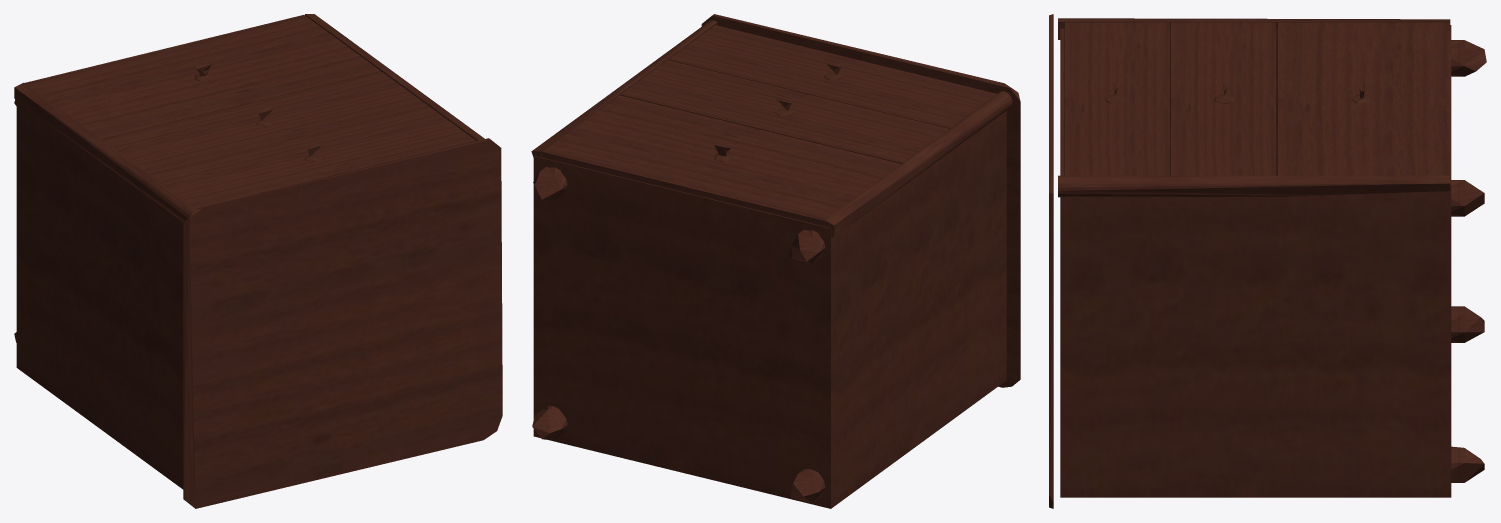
The model's file is commodenightstand1_wtf.obj.
The picture shows the model from 3 angles, left to right: view 1: azimuth 30°, elevation 25°; view 2: azimuth 150°, elevation 25°; view 3: azimuth 270°, elevation 25°; orthographic projection. The views are drawn at different scales.
Visible parts, largest first — view 1: group2, group3; view 2: group2, group3; view 3: group2, group3.
Part boxes in pixels (x1,y1,x2,y2): group2: (14, 14, 502, 508); group3: (195, 64, 323, 161); group2: (531, 14, 1020, 508); group3: (714, 63, 842, 161); group2: (1049, 14, 1486, 508); group3: (1105, 82, 1371, 103).
Size of the model in its own units: 620 by 572 by 660.
